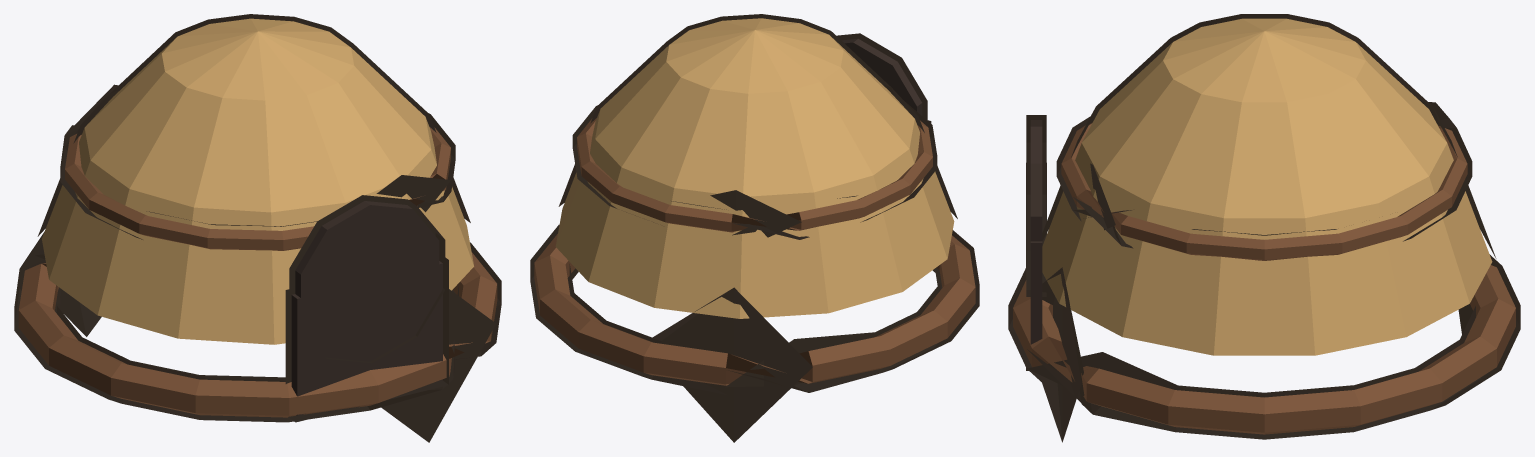
File: cat_house_02.glb
3 renders of one model, left to right at view 1: azimuth 30°, elevation 25°; view 2: azimuth 150°, elevation 25°; view 3: azimuth 270°, elevation 25°, orthographic. The views are drawn at different scales.
Visible parts, largest first — view 1: OBJ_cat_house_02; view 2: OBJ_cat_house_02; view 3: OBJ_cat_house_02.
Boxes of the visible parts, x1,y1,x2,y2 form: OBJ_cat_house_02: (14,14,501,442); OBJ_cat_house_02: (530,14,979,442); OBJ_cat_house_02: (1008,14,1520,442).
Bounding box in the file's own units: 0.8771 × 0.7144 × 0.8771.
